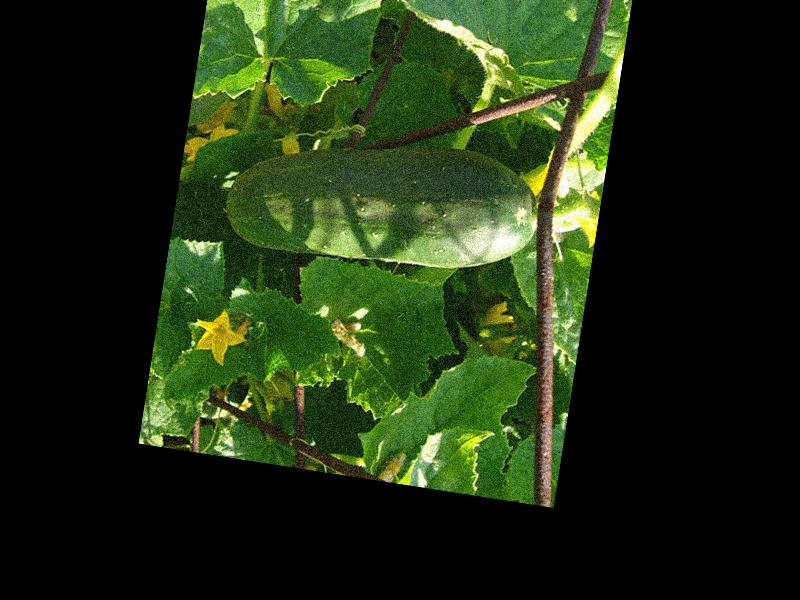Cucumber: (219, 111, 546, 289)
